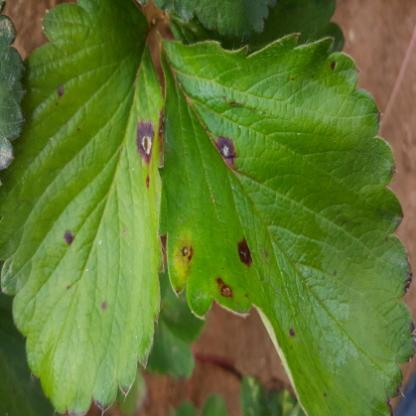Strawberry_Leaf_Spot: (157, 32, 415, 415), (0, 0, 165, 415)
